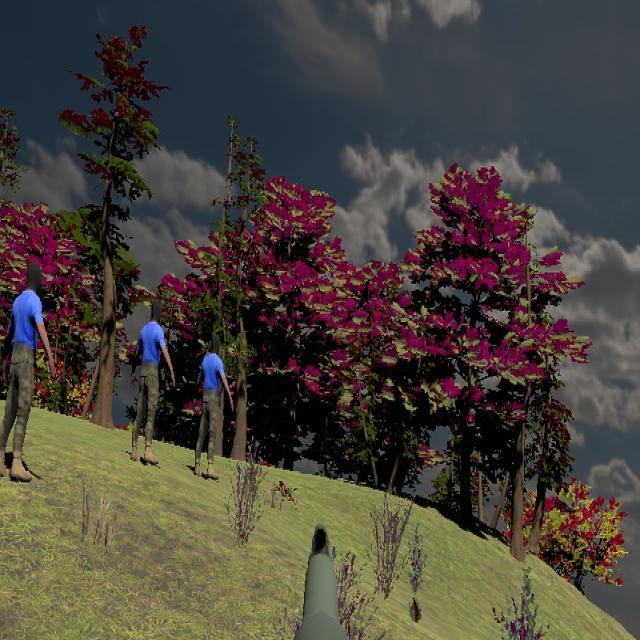Human: (1, 260, 56, 489), (131, 299, 176, 466), (194, 332, 235, 481)
